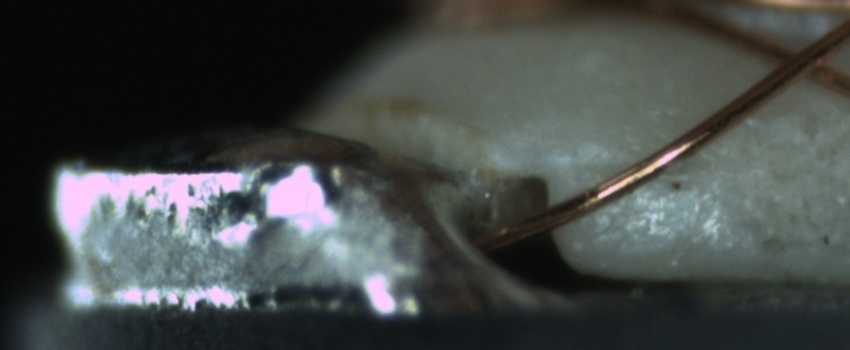CL: (759, 29, 839, 91)
DL: (564, 139, 714, 196)
